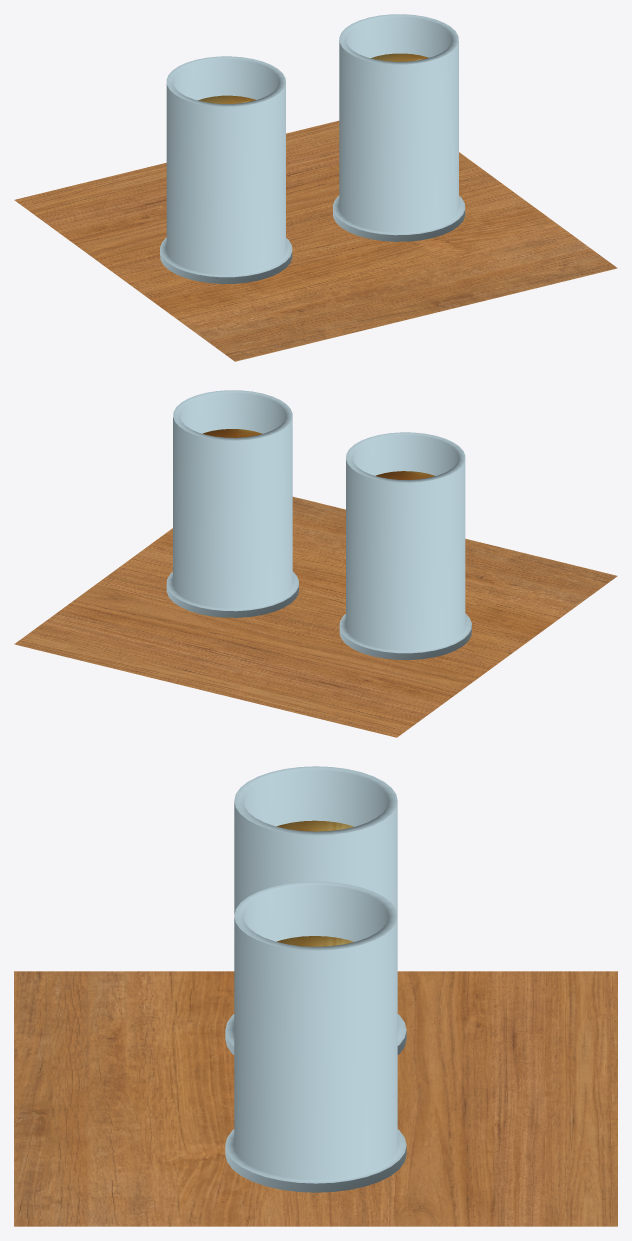
File: shot.obj
The picture shows the model from 3 angles, top to bottom: view 1: azimuth 30°, elevation 25°; view 2: azimuth 150°, elevation 25°; view 3: azimuth 270°, elevation 25°; orthographic projection. The views are drawn at different scales.
Parts seen in each view (by area): view 1: Plane, Shot, Shot2; view 2: Plane, Shot, Shot2; view 3: Plane, Shot2, Shot.
Part boxes in pixels (x1=…): Plane: x1=14, y1=120, x2=617, y2=361; Shot: x1=160, y1=56, x2=292, y2=283; Shot2: x1=333, y1=14, x2=465, y2=241; Plane: x1=14, y1=496, x2=617, y2=737; Shot: x1=339, y1=432, x2=471, y2=659; Shot2: x1=166, y1=390, x2=298, y2=617; Plane: x1=14, y1=971, x2=617, y2=1226; Shot2: x1=225, y1=881, x2=406, y2=1192; Shot: x1=225, y1=766, x2=406, y2=1054.
Bounding box in the file's own units: 5.08 × 2.21 × 5.08.
